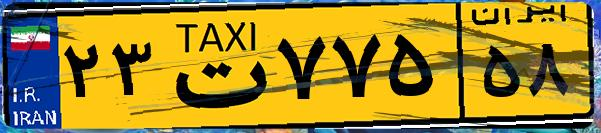2: (57, 26, 110, 100)
3: (110, 28, 158, 98)
5: (385, 28, 445, 110), (475, 38, 525, 113)
7: (270, 28, 330, 110), (330, 28, 385, 110)
8: (525, 38, 570, 115)
ت: (158, 12, 270, 120)
